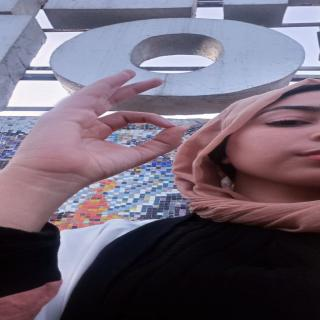Space: (22, 63, 185, 185)
